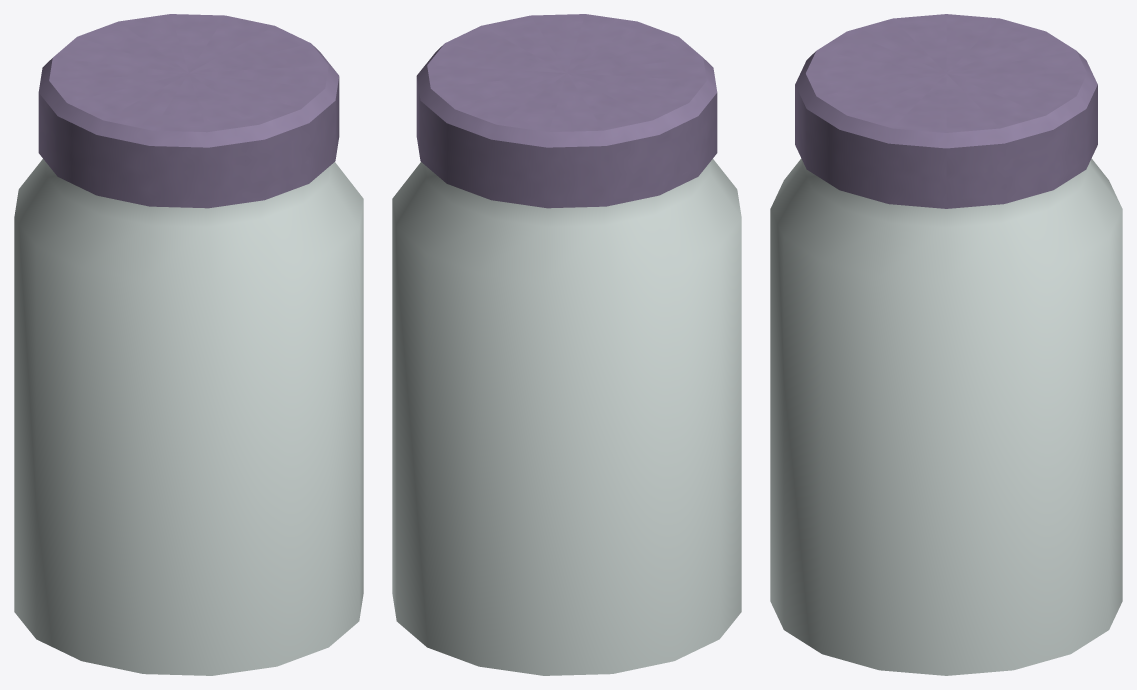
File: SM_Jar_L_Plum.fbx
The picture shows the model from 3 angles, left to right: view 1: azimuth 30°, elevation 25°; view 2: azimuth 150°, elevation 25°; view 3: azimuth 270°, elevation 25°; orthographic projection.
Parts seen in each view (by area): view 1: SM_Jar_L_Plum; view 2: SM_Jar_L_Plum; view 3: SM_Jar_L_Plum.
Part boxes in pixels (bbox=[...]): SM_Jar_L_Plum: bbox=[14, 14, 363, 675]; SM_Jar_L_Plum: bbox=[392, 14, 741, 675]; SM_Jar_L_Plum: bbox=[770, 14, 1122, 675].
Bounding box in the file's own units: 0.116 × 0.192 × 0.116.
3 materials, 3 textured.
